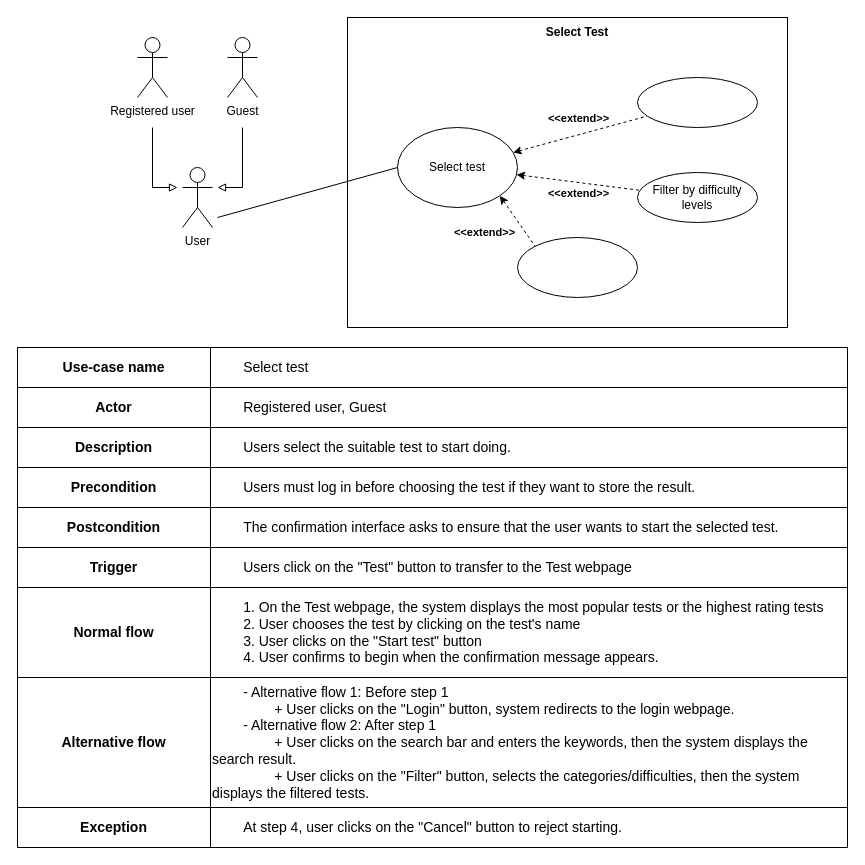
This 865x865 diagram has some shape labels left out. The shapes that lost their labels are listed below. From the top down, each one's box as (x1, y1, x2, y2) in pixels, then its label:
(636, 76, 758, 128): Filter by categories
(516, 236, 638, 298): Search by test's name
